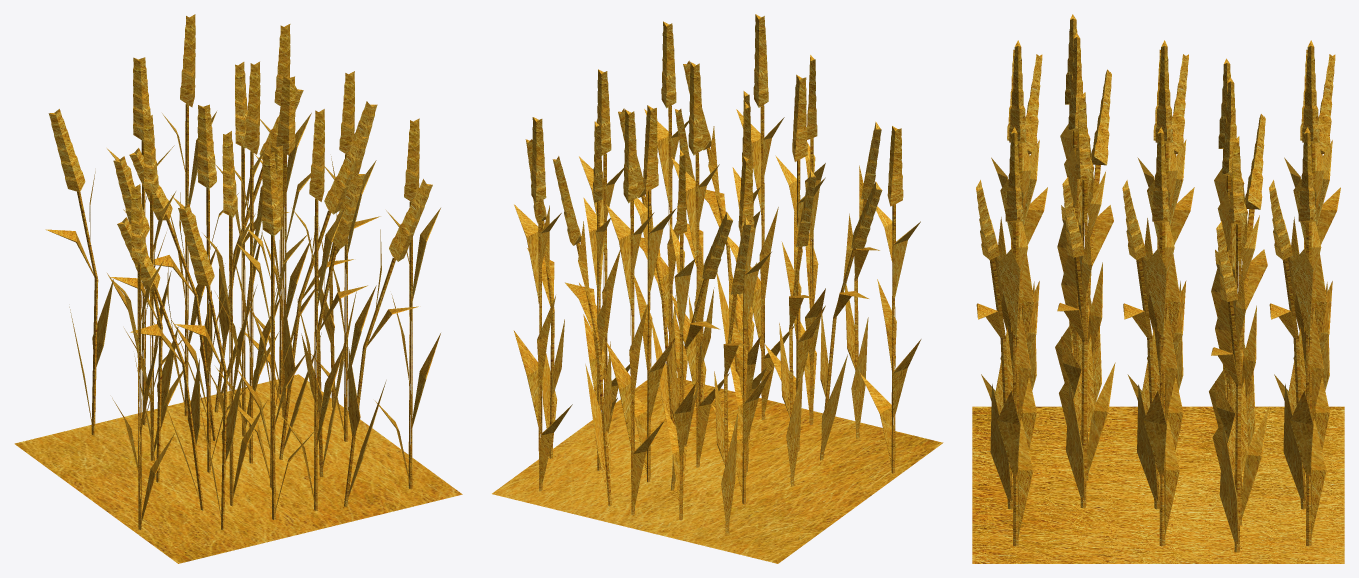
Rendered from Rye.fbx.
3 renders of one model, left to right at view 1: azimuth 30°, elevation 25°; view 2: azimuth 150°, elevation 25°; view 3: azimuth 270°, elevation 25°, orthographic. The views are drawn at different scales.
Visible parts, largest first — view 1: Plane, Plane.001; view 2: Plane, Plane.001; view 3: Plane, Plane.001.
Boxes of the visible parts, left/top/right/bottom form: Plane: left=14, top=253, right=462, bottom=563; Plane.001: left=45, top=14, right=440, bottom=519; Plane: left=492, top=245, right=943, bottom=563; Plane.001: left=513, top=14, right=920, bottom=508; Plane: left=972, top=251, right=1344, bottom=563; Plane.001: left=976, top=14, right=1340, bottom=543.
Bounding box in the file's own units: 233 × 269 × 200.
Materials: 1 (1 with a texture image).
